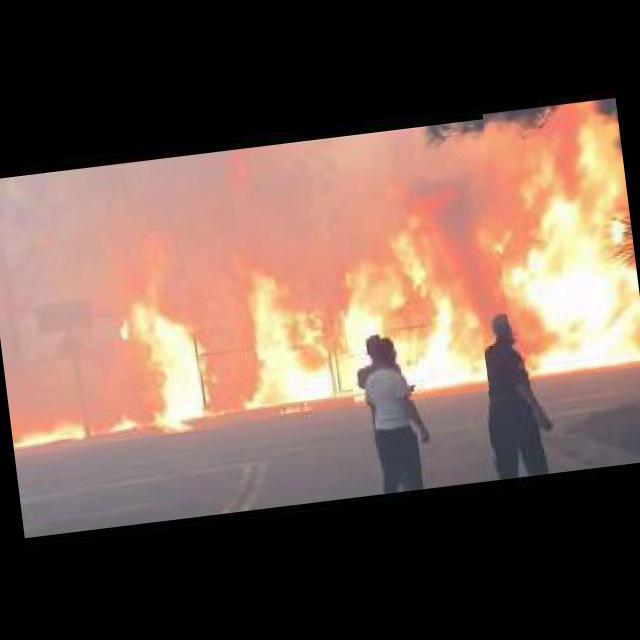fire: (482, 95, 640, 381), (330, 190, 489, 406), (117, 262, 226, 438), (228, 244, 328, 406), (9, 401, 126, 453)
